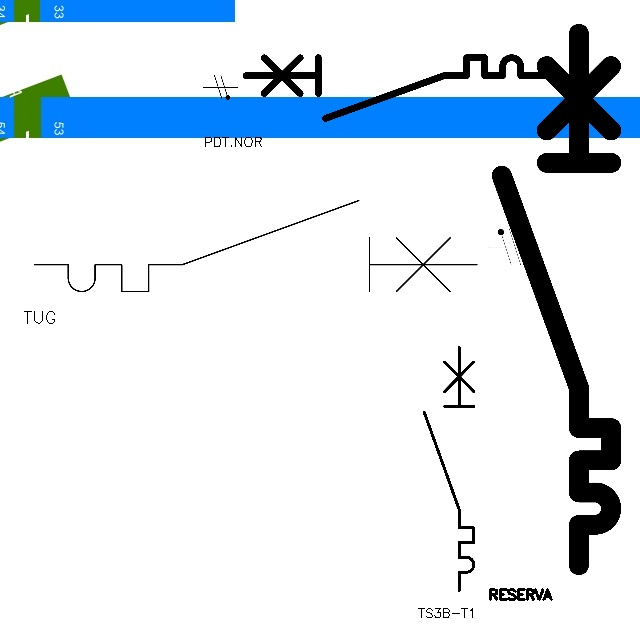interruptor_termomagnetico: (488, 20, 625, 579), (23, 189, 488, 303), (238, 50, 550, 126), (418, 341, 480, 597)
